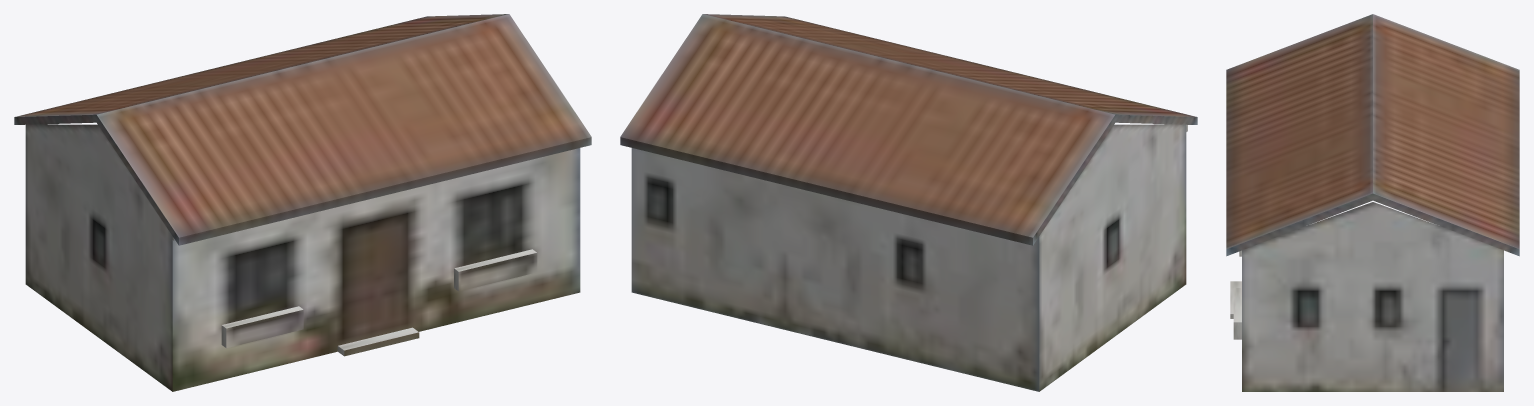
The model's file is casa_andaluza_5v_lejos.glb.
The picture shows the model from 3 angles, left to right: view 1: azimuth 30°, elevation 25°; view 2: azimuth 150°, elevation 25°; view 3: azimuth 270°, elevation 25°; orthographic projection. The views are drawn at different scales.
Visible parts, largest first — view 1: CA5_Casa; view 2: CA5_Casa; view 3: CA5_Casa.
Boxes of the visible parts, box(x1,y1,x2,y2) form: CA5_Casa: box(14, 14, 591, 391); CA5_Casa: box(620, 14, 1197, 391); CA5_Casa: box(1226, 14, 1519, 391).
Bounding box in the file's own units: 8.1 × 4.2 × 5.6.
1 material, 1 textured.
